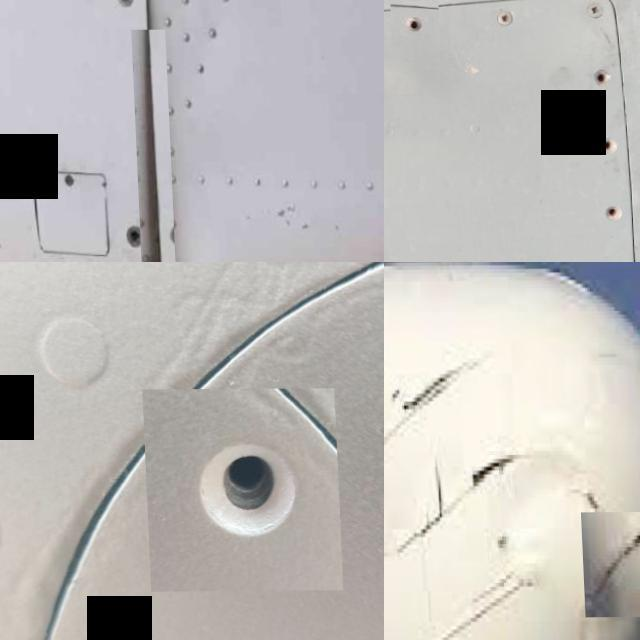Crack: (138, 31, 171, 262), (578, 512, 640, 618), (452, 460, 520, 494)
Missing_Fastener: (140, 389, 340, 592), (389, 2, 438, 46), (584, 122, 628, 168), (588, 192, 634, 234), (581, 58, 621, 98)
